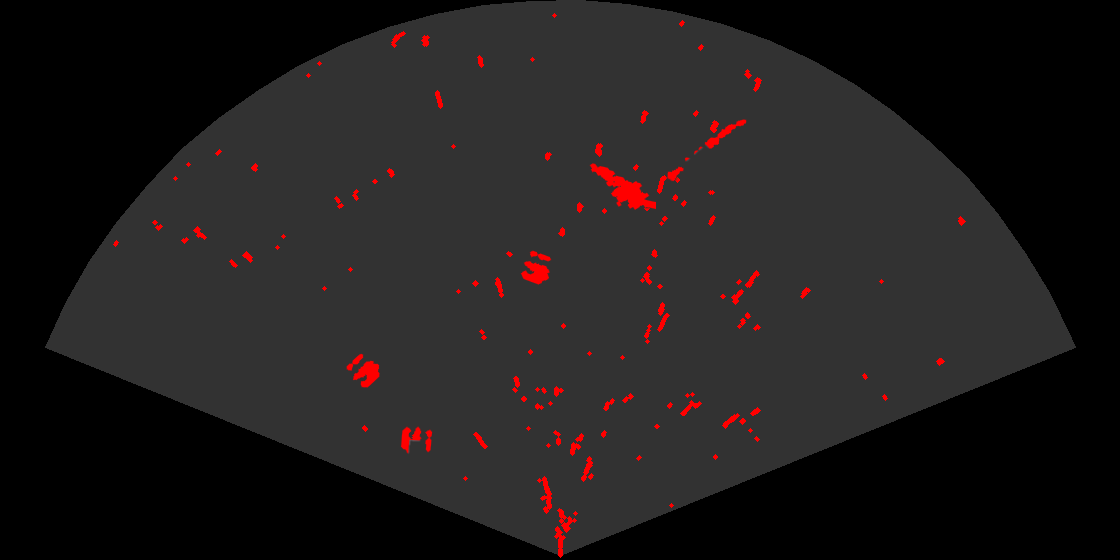ball: (345, 352, 381, 389), (519, 249, 553, 286), (399, 425, 434, 455)
chain: (666, 118, 748, 183)
frogman: (588, 162, 656, 211)
